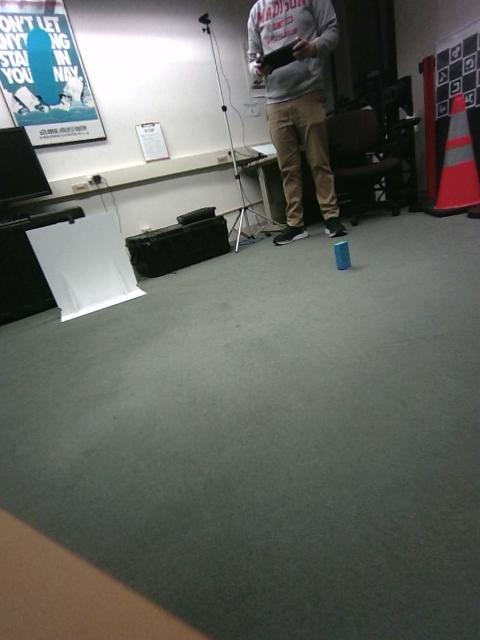block: (395, 267, 427, 335)
